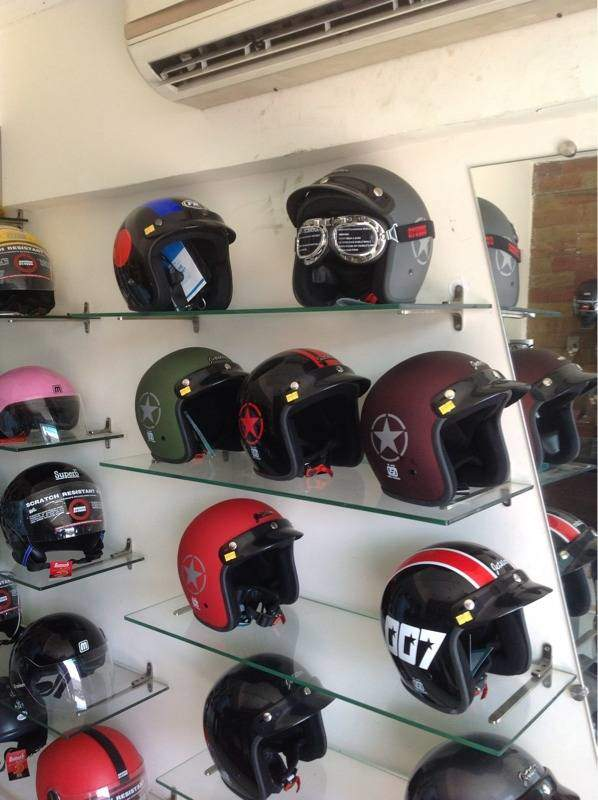with_helmet: (374, 540, 554, 718), (366, 349, 535, 509), (281, 163, 436, 311), (173, 494, 316, 640), (202, 653, 339, 800), (250, 343, 368, 493), (106, 191, 243, 315), (132, 340, 246, 470), (3, 608, 124, 727), (1, 458, 111, 574), (1, 349, 90, 440)
